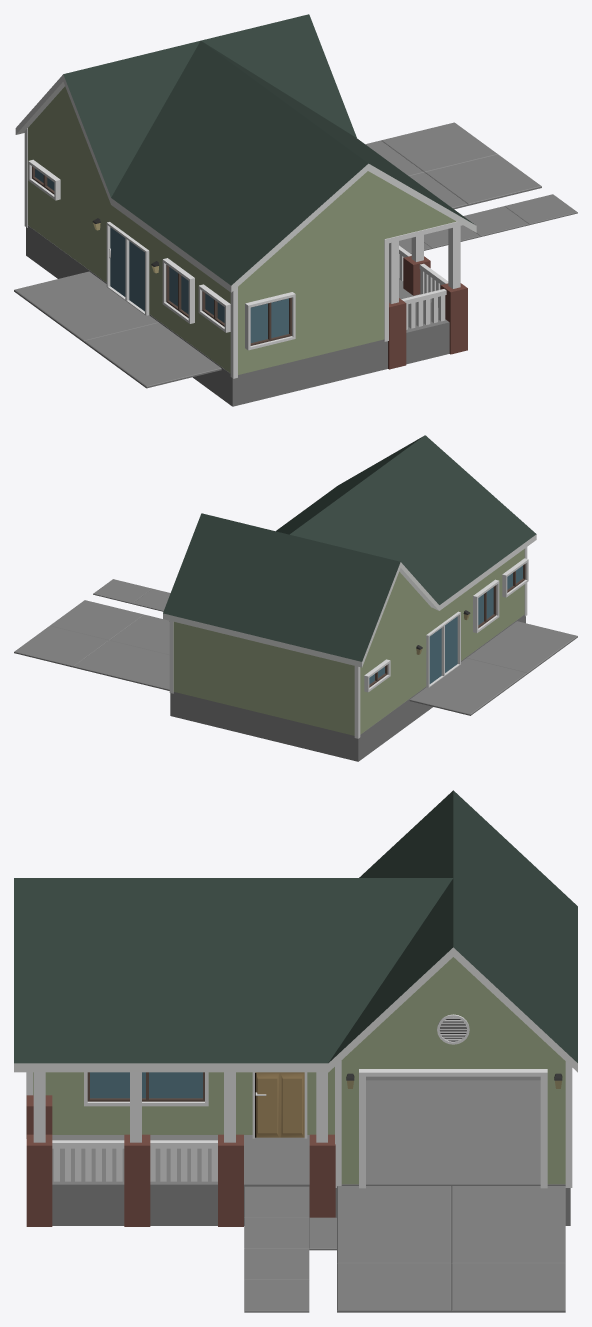
The model's file is Proto_HouseSmall_Green.fbx.
The picture shows the model from 3 angles, top to bottom: view 1: azimuth 30°, elevation 25°; view 2: azimuth 150°, elevation 25°; view 3: azimuth 270°, elevation 25°; orthographic projection. The views are drawn at different scales.
Parts seen in each view (by area): view 1: HouseSmall_Green; view 2: HouseSmall_Green; view 3: HouseSmall_Green.
Boxes of the visible parts, bbox=[...] form: HouseSmall_Green: bbox=[14, 14, 577, 406]; HouseSmall_Green: bbox=[14, 435, 577, 761]; HouseSmall_Green: bbox=[14, 790, 577, 1312].
Size of the model in its own units: 32.35 by 13.28 by 24.02.
